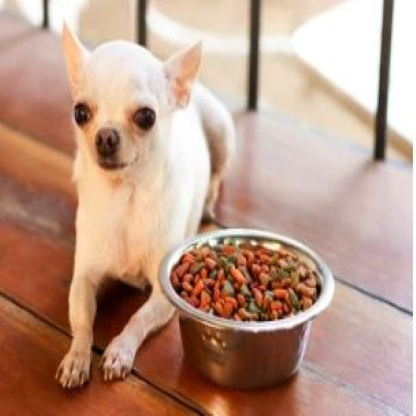chihuahua: (56, 20, 237, 387)
